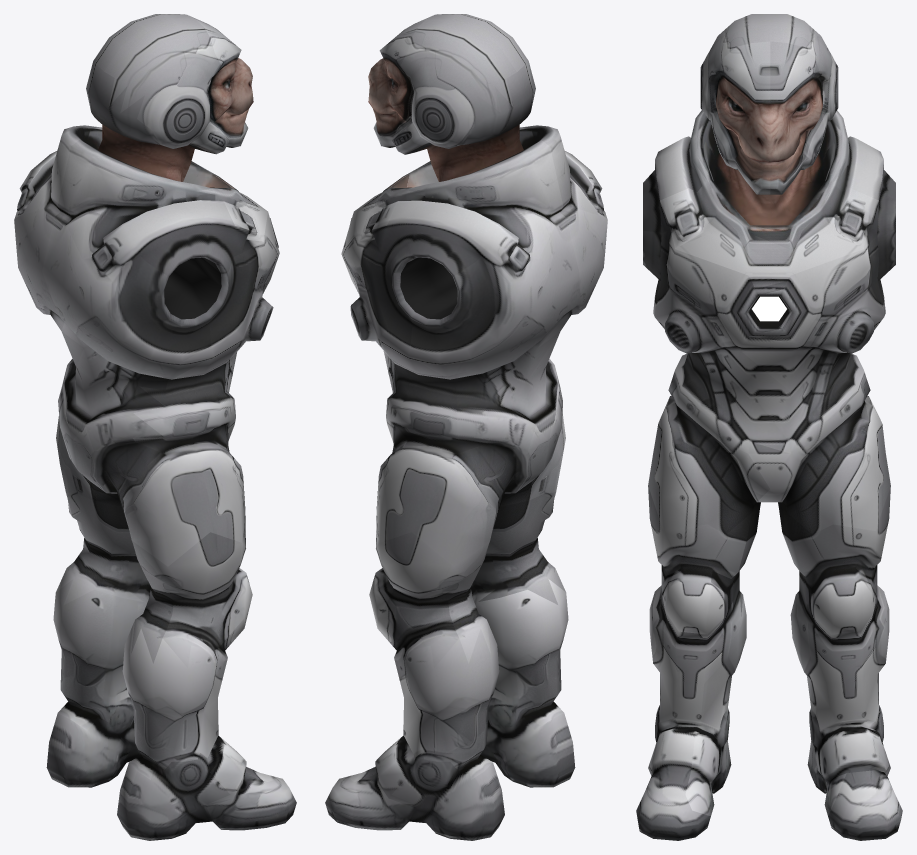
Rendered from fuzeball_alienKodus.glb.
The picture shows the model from 3 angles, left to right: view 1: azimuth 30°, elevation 25°; view 2: azimuth 150°, elevation 25°; view 3: azimuth 270°, elevation 25°; orthographic projection.
Parts seen in each view (by area): view 1: alien_kodus; view 2: alien_kodus; view 3: alien_kodus.
Part boxes in pixels (box(x1,y1,x2,y2)): alien_kodus: box(14, 14, 296, 840); alien_kodus: box(325, 14, 607, 840); alien_kodus: box(636, 14, 902, 840).
Size of the model in its own units: 3.54 by 11.75 by 3.63.
4 materials, 2 textured.
